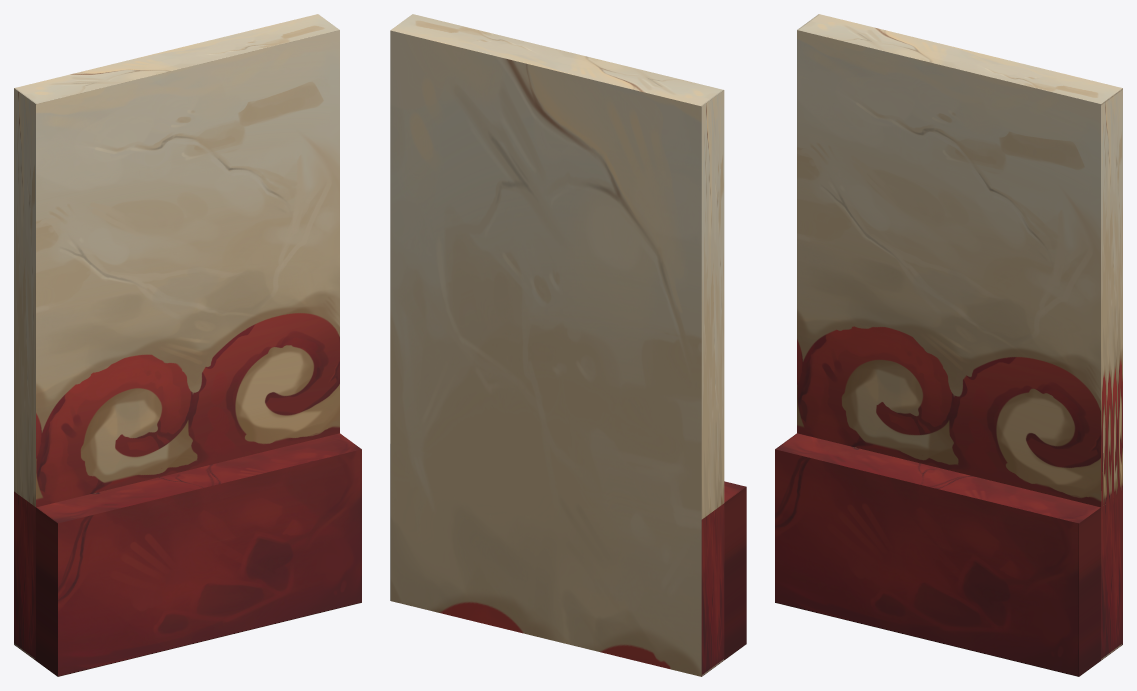
File: Modulaire_MurPetit.fbx
The picture shows the model from 3 angles, left to right: view 1: azimuth 30°, elevation 25°; view 2: azimuth 150°, elevation 25°; view 3: azimuth 330°, elevation 25°; orthographic projection. The views are drawn at different scales.
Parts seen in each view (by area): view 1: Box006; view 2: Box006; view 3: Box006.
Boxes of the visible parts, box(x1,y1,x2,y2) form: Box006: box(14, 14, 361, 676); Box006: box(390, 14, 746, 676); Box006: box(775, 14, 1122, 676).
Size of the model in its own units: 1 by 1.75 by 0.25.
